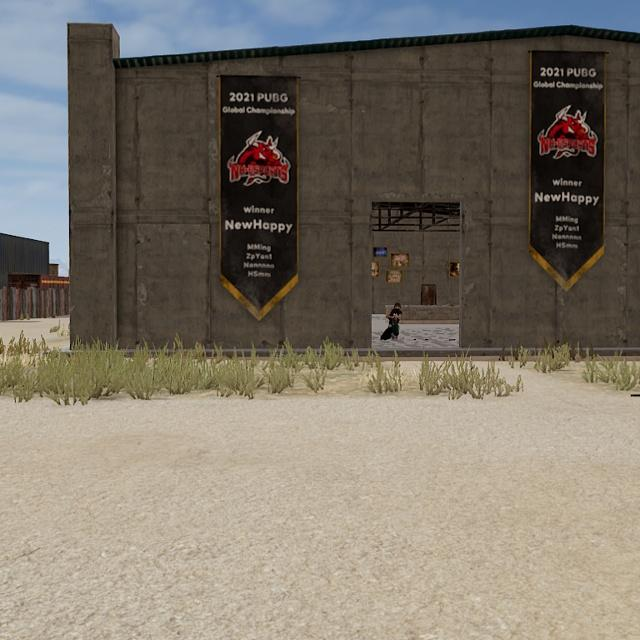head: (393, 300, 402, 311)
people: (380, 300, 404, 341)
